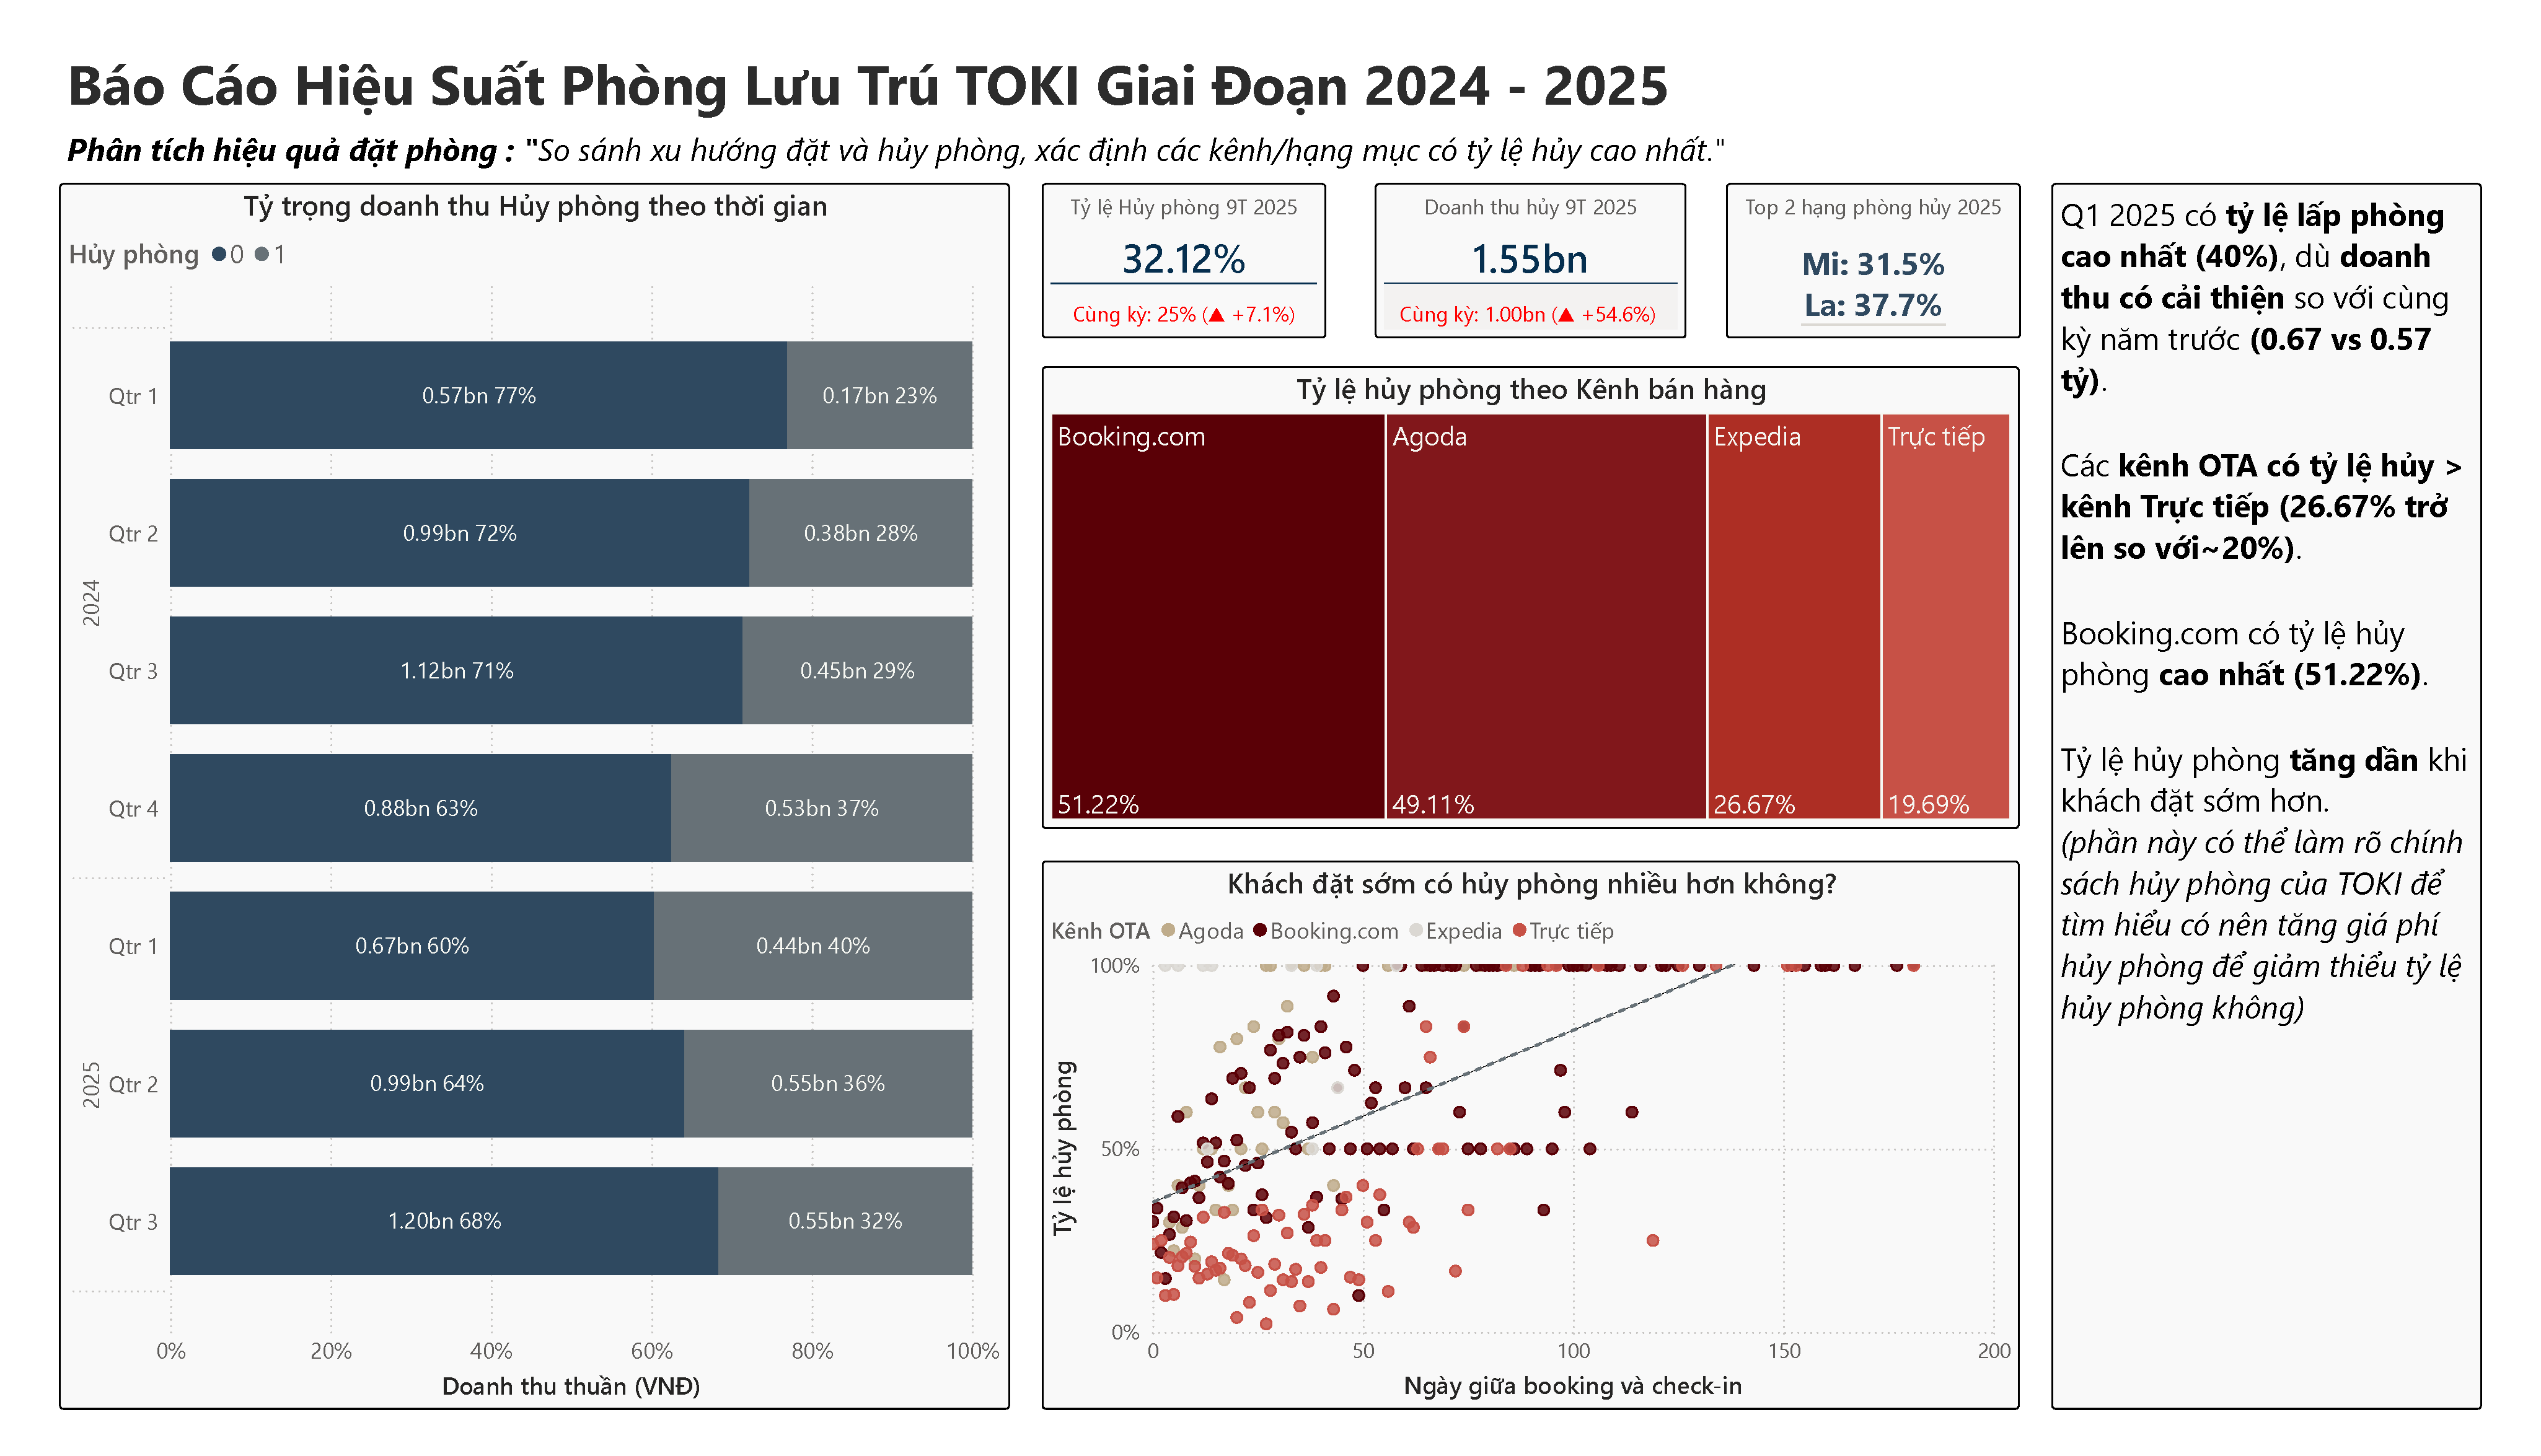

The dashboard page shown, as its layout file describes it:
{"tool":"powerbi","page":{"name":"Booking & Cancellation Behavior","canvas":[1920,1080],"ordinal":4},"visuals":[{"type":"textbox","box":[23,6,1390,68],"z":0},{"type":"textbox","box":[1565,117.5,332.5,950],"z":1000},{"type":"cardVisual","fields":{"Data":["_Measures.Doanh thu hủy 9T 2025"]},"box":[1040.2,117.8,241.7,120],"z":2000,"group":"g1"},{"type":"treemap","title":"Tỷ lệ hủy phòng theo Kênh bán hàng","fields":{"Group":["TOKI - Merged - Backup.Kênh OTA"],"Values":["_Measures.Cancellation Rate"]},"box":[782.5,260,757.5,357.5],"z":2000},{"type":"textbox","box":[22.5,70,1637.5,47.5],"z":3000},{"type":"hundredPercentStackedBarChart","title":"Tỷ trọng doanh thu Hủy phòng theo thời gian","fields":{"Category":["Date.Date.Variation.Date Hierarchy.Year","Date.Date.Variation.Date Hierarchy.Quarter"],"Series":["TOKI - Merged - Backup.Hủy phòng"],"Y":["Sum(TOKI - Merged - Backup.Doanh thu thuần)"]},"box":[22,118,736,950],"z":4000},{"type":"group","id":"g1","title":"Group 1","box":[782.5,117.5,757.5,120],"z":5000},{"type":"scatterChart","title":"Khách đặt sớm có hủy phòng nhiều hơn không?","fields":{"X":["TOKI - Merged - Backup.Leadtime"],"Y":["_Measures.Cancellation Rate"],"Series":["TOKI - Merged - Backup.Kênh OTA"]},"box":[782.5,642.5,757.5,425],"z":6000},{"type":"textbox","box":[1312.5,117.5,228,120],"z":7000,"group":"g1"},{"type":"cardVisual","fields":{"Data":["_Measures.Cancellation Rate 9T 2025"]},"box":[782.5,117.5,220,120],"z":10000,"group":"g1"}]}

Visuals, with their boxes in screenshot pixels (x1, y1, x2, y2):
textbox: {"x1": 61, "y1": 38, "x2": 1856, "y2": 126}
textbox: {"x1": 2051, "y1": 183, "x2": 2481, "y2": 1409}
cardVisual - _Measures.Doanh thu hủy 9T 2025: {"x1": 1374, "y1": 183, "x2": 1686, "y2": 338}
"Tỷ lệ hủy phòng theo Kênh bán hàng" treemap: {"x1": 1041, "y1": 367, "x2": 2019, "y2": 828}
textbox: {"x1": 60, "y1": 121, "x2": 2174, "y2": 183}
"Tỷ trọng doanh thu Hủy phòng theo thời gian" hundredPercentStackedBarChart: {"x1": 59, "y1": 183, "x2": 1010, "y2": 1410}
"Group 1" group: {"x1": 1041, "y1": 183, "x2": 2019, "y2": 338}
"Khách đặt sớm có hủy phòng nhiều hơn không?" scatterChart: {"x1": 1041, "y1": 861, "x2": 2019, "y2": 1409}
textbox: {"x1": 1725, "y1": 183, "x2": 2020, "y2": 338}
cardVisual - _Measures.Cancellation Rate 9T 2025: {"x1": 1041, "y1": 183, "x2": 1326, "y2": 338}
